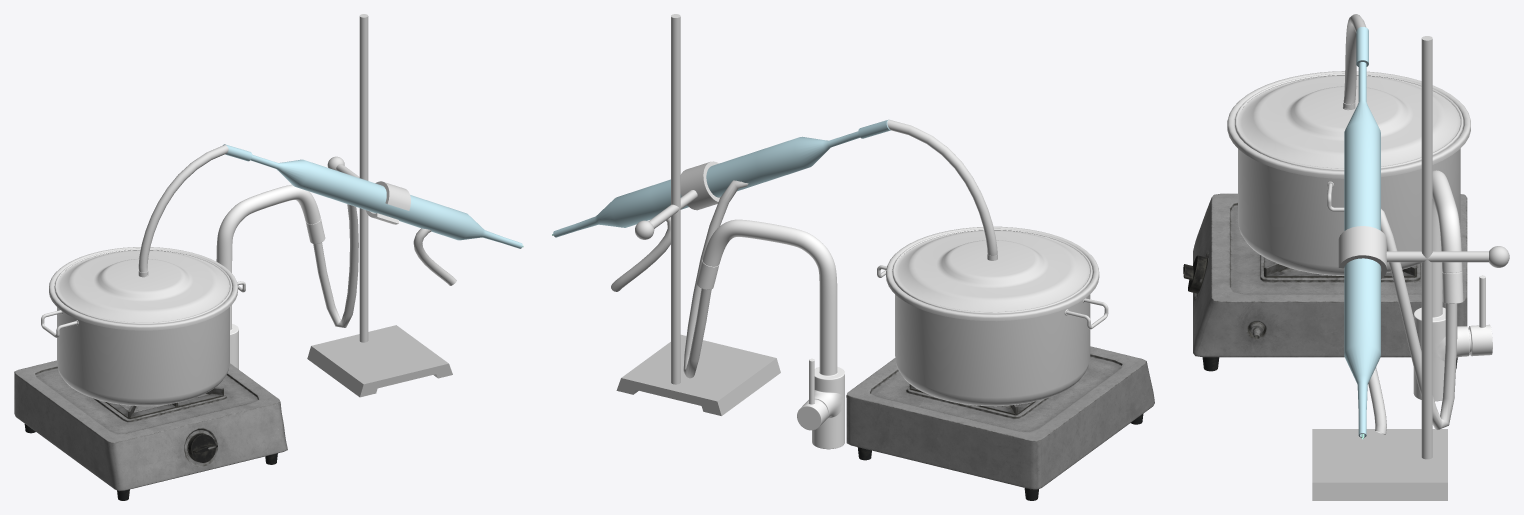
Rendered from Water_Ethanol.fbx.
3 renders of one model, left to right at view 1: azimuth 30°, elevation 25°; view 2: azimuth 150°, elevation 25°; view 3: azimuth 270°, elevation 25°, orthographic. The views are drawn at different scales.
Parts seen in each view (by area): view 1: Gass_Stove, 01_2, 02, Base_do_Apoio001, Tube004, Faucet, Cylinder005, BézierCurve.001, BézierCurve, Tube006, BézierCurve.002, Knob; view 2: Gass_Stove, 01_2, 02, Faucet, Base_do_Apoio001, Tube004, Cylinder005, BézierCurve.001, BézierCurve, Tube006, BézierCurve.002; view 3: Gass_Stove, 01_2, 02, Base_do_Apoio001, Tube004, Faucet, Cylinder005, BézierCurve.001, Tube006, Cylinder006, BézierCurve, BézierCurve.002 (+3 smaller).
Boxes of the visible parts, x1,y1,x2,y2 form: Gass_Stove: (14,360,287,500); 01_2: (41,247,245,405); 02: (54,248,232,324); Base_do_Apoio001: (307,325,452,397); Tube004: (250,154,522,248); Faucet: (216,184,325,369); Cylinder005: (359,14,368,342); BézierCurve.001: (313,204,358,327); BézierCurve: (138,144,228,276); Tube006: (366,181,410,224); BézierCurve.002: (413,228,456,285); Knob: (188,433,217,462); Gass_Stove: (846,346,1154,500); 01_2: (877,226,1108,406); 02: (892,228,1092,313); Faucet: (696,219,844,449); Base_do_Apoio001: (616,334,780,415); Tube004: (553,131,859,237); Cylinder005: (671,14,680,384); BézierCurve.001: (683,180,748,378); BézierCurve: (887,119,997,255); Tube006: (680,161,720,210); BézierCurve.002: (611,217,670,291); Gass_Stove: (1193,193,1467,371); 01_2: (1227,71,1470,275); 02: (1235,73,1463,170); Base_do_Apoio001: (1312,429,1447,500); Tube004: (1344,62,1380,437); Faucet: (1413,170,1492,401); Cylinder005: (1421,36,1432,459); BézierCurve.001: (1381,209,1457,429); Tube006: (1338,226,1386,278); Cylinder006: (1386,251,1488,262); BézierCurve: (1343,14,1366,110); BézierCurve.002: (1368,367,1386,434).
Size of the model in its own units: 49.07 by 33.51 by 22.41.
